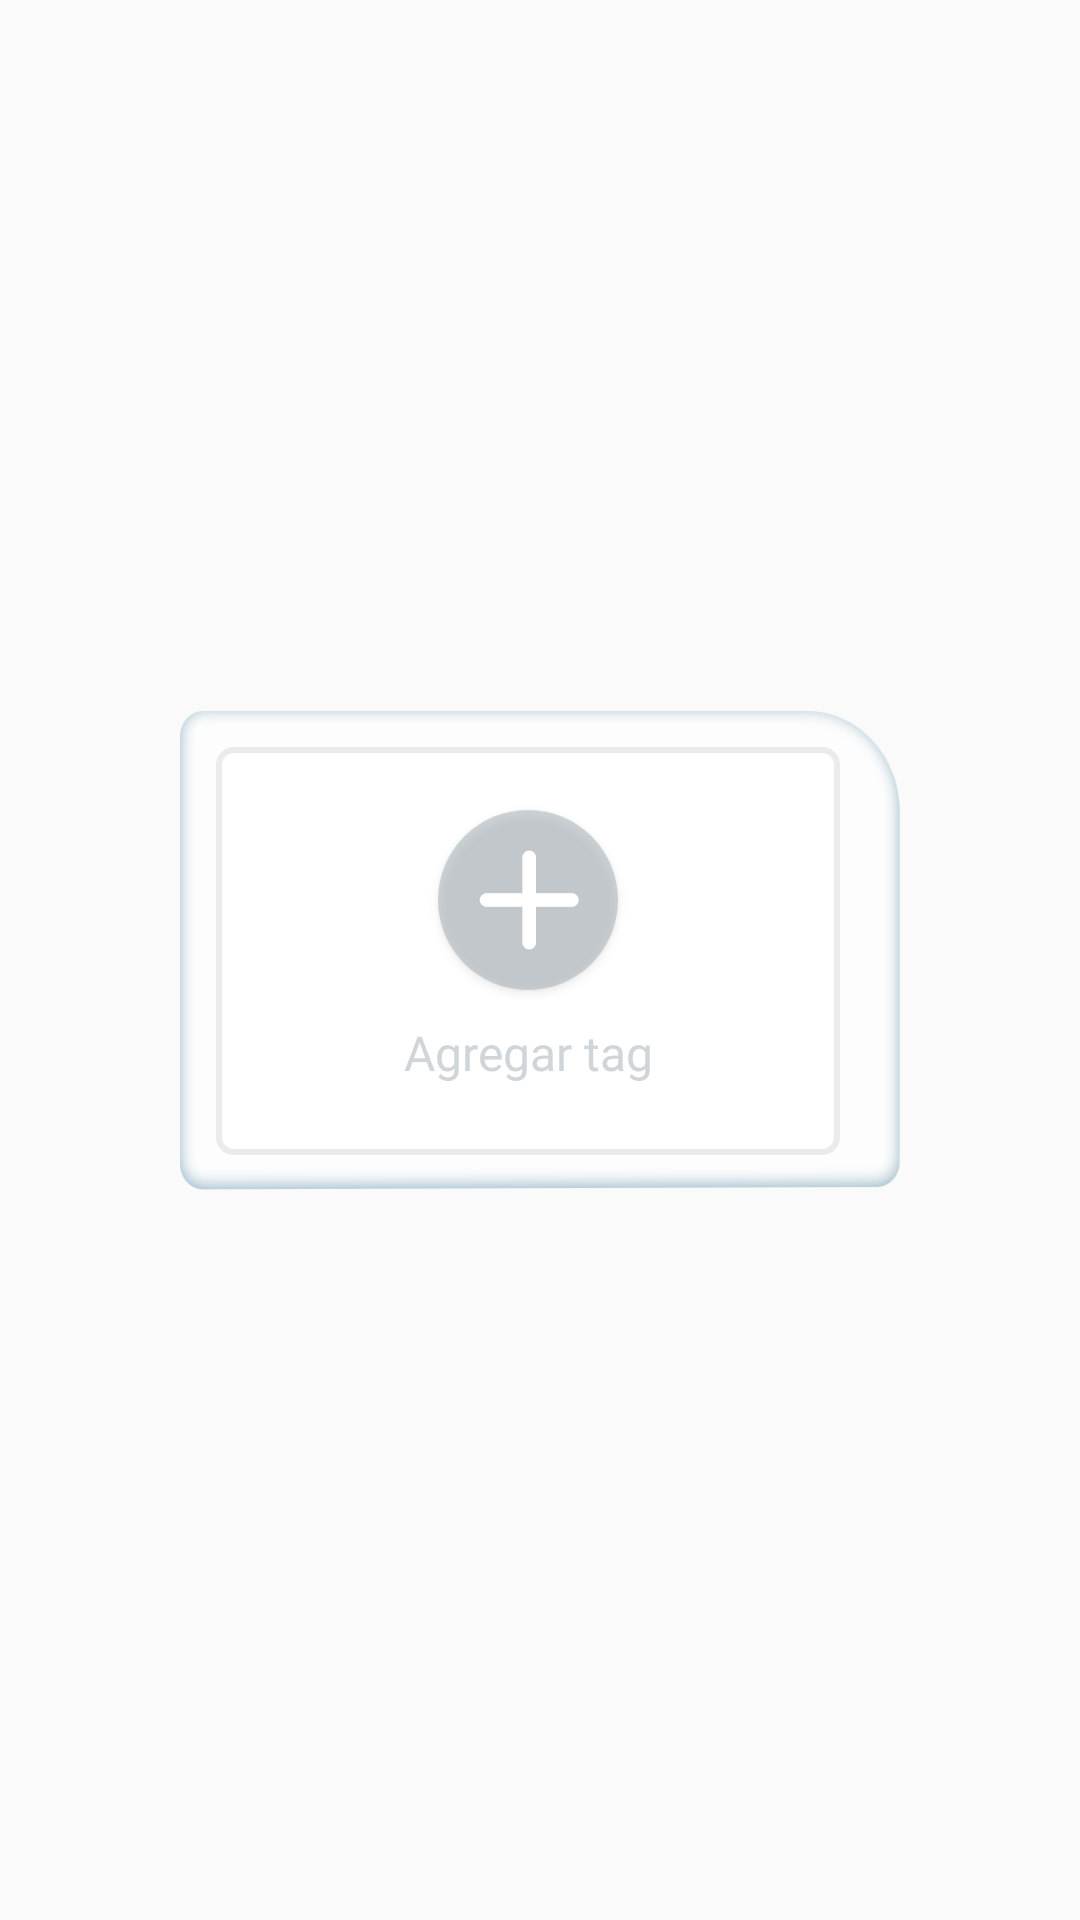

Icons on this 1080*1920 Android screen, each with the point to tap as point (x, y):
add: point (529, 900)
